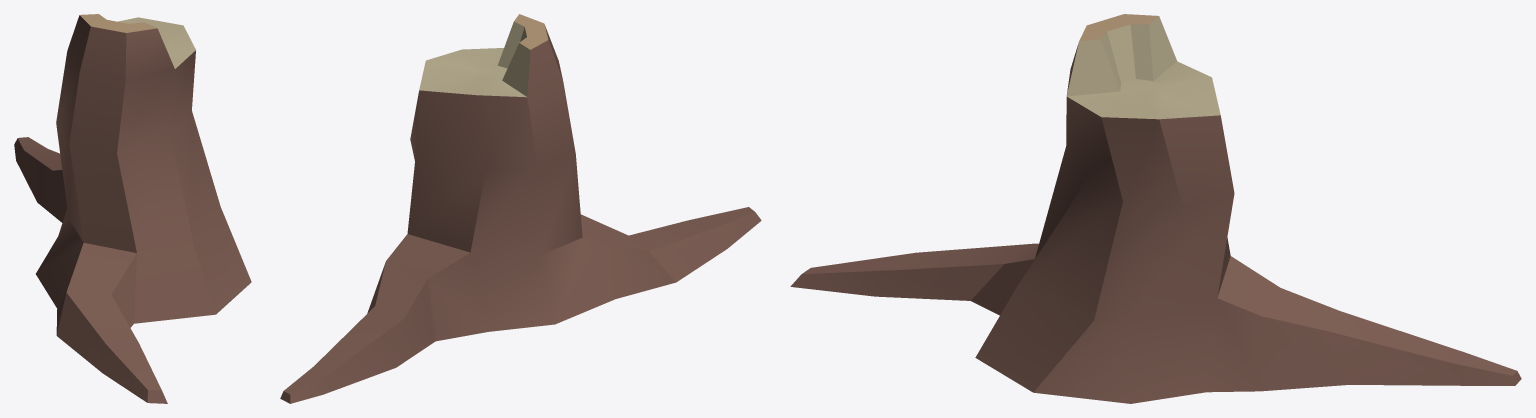
File: Trunks__Stumps_Pack_Tree_trunk_01.006.fbx
3 views of the same model, side by side, from view 1: azimuth 30°, elevation 25°; view 2: azimuth 150°, elevation 25°; view 3: azimuth 270°, elevation 25° (orthographic). The views are drawn at different scales.
Parts seen in each view (by area): view 1: Trunks__Stumps_Pack_Tree_trunk_01.006; view 2: Trunks__Stumps_Pack_Tree_trunk_01.006; view 3: Trunks__Stumps_Pack_Tree_trunk_01.006.
Boxes of the visible parts, x1,y1,x2,y2 form: Trunks__Stumps_Pack_Tree_trunk_01.006: (14, 14, 251, 403); Trunks__Stumps_Pack_Tree_trunk_01.006: (280, 14, 761, 403); Trunks__Stumps_Pack_Tree_trunk_01.006: (790, 14, 1521, 403).
Bounding box in the file's own units: 49.69 × 55.51 × 117.
